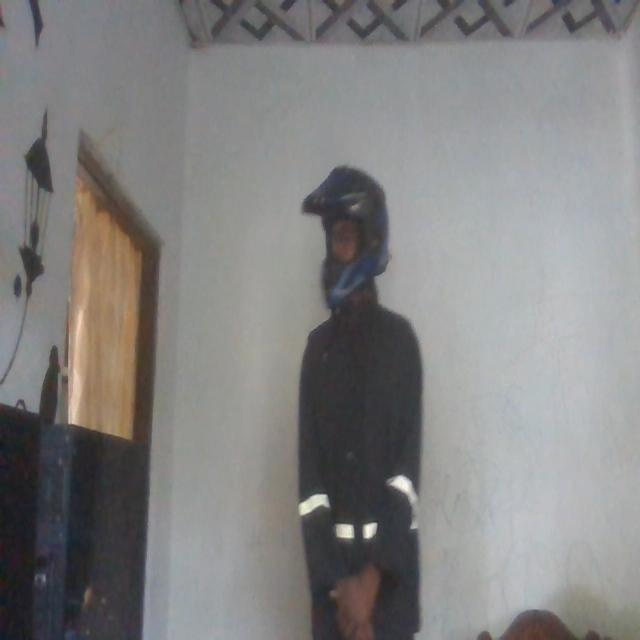Helmet_Wearer: (304, 169, 392, 313)
Jacket_Wearer: (300, 304, 424, 638)
Person: (293, 165, 425, 640)
